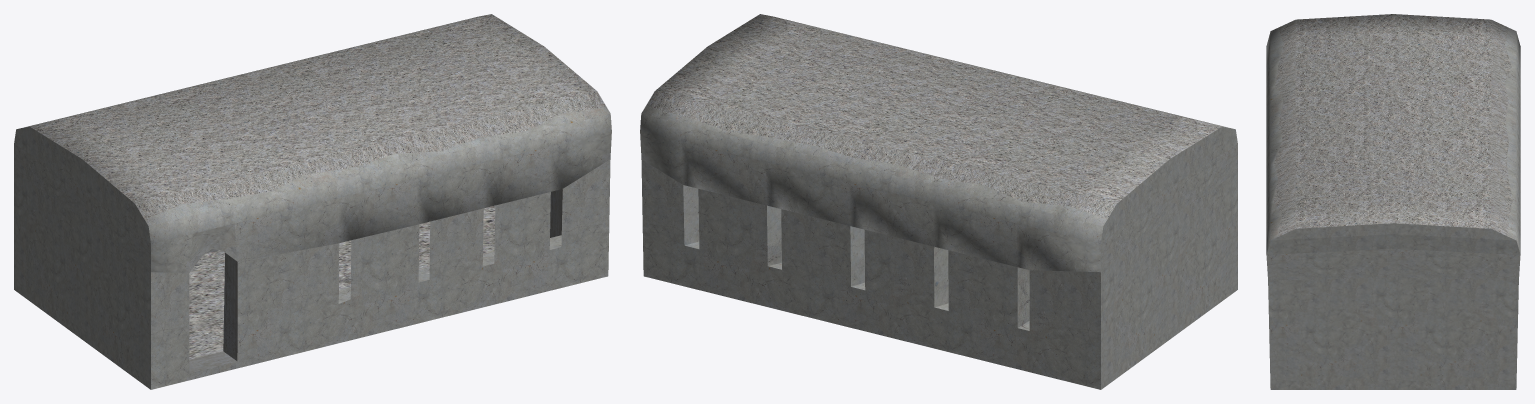
File: Bridge.fbx
3 views of the same model, side by side, from view 1: azimuth 30°, elevation 25°; view 2: azimuth 150°, elevation 25°; view 3: azimuth 270°, elevation 25° (orthographic). The views are drawn at different scales.
Visible parts, largest first — view 1: Cube; view 2: Cube; view 3: Cube.
Boxes of the visible parts, bbox=[...] form: Cube: bbox=[14, 14, 611, 389]; Cube: bbox=[640, 14, 1237, 389]; Cube: bbox=[1266, 14, 1520, 389].
Size of the model in its own units: 403 by 151 by 207.
